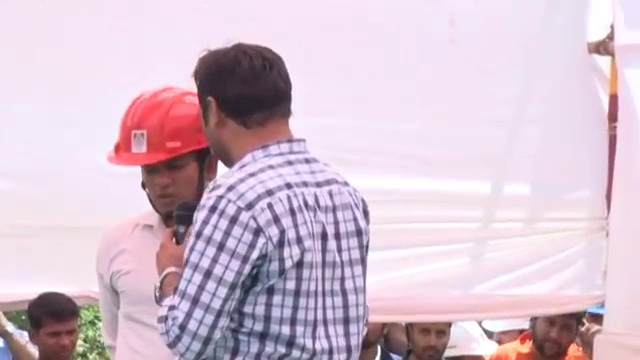helmet: (107, 84, 210, 170), (439, 319, 499, 359)
helmet_off: (189, 43, 302, 172), (25, 302, 83, 356), (530, 316, 583, 359), (400, 318, 450, 360)
helmet_on: (106, 83, 226, 232)
person: (156, 41, 372, 357), (96, 83, 232, 359)
